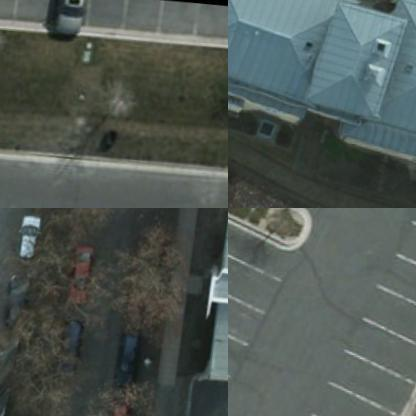car: (60, 239, 96, 304), (8, 214, 42, 262), (106, 329, 133, 381), (51, 316, 80, 364), (53, 0, 87, 38)
